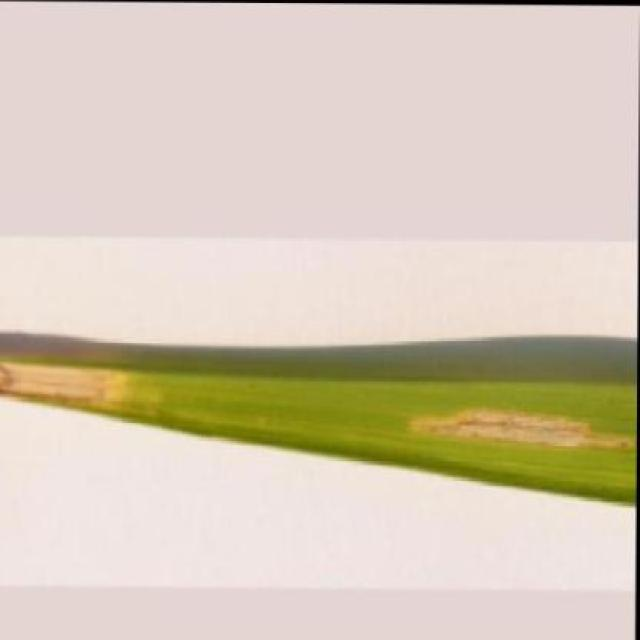Brown_Spot: (0, 353, 638, 502)
